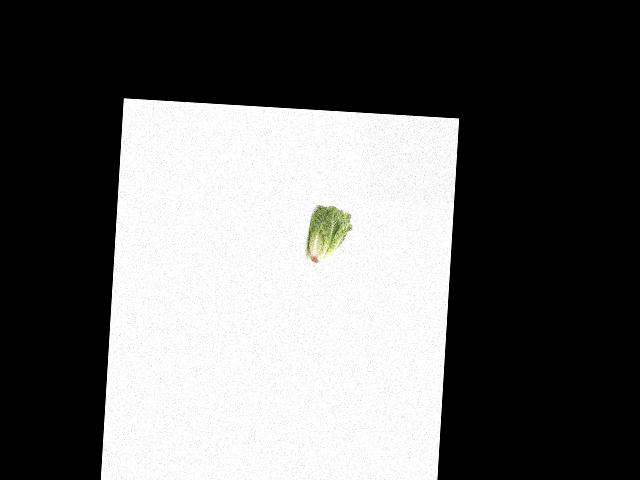lettuce: (305, 204, 353, 267)
